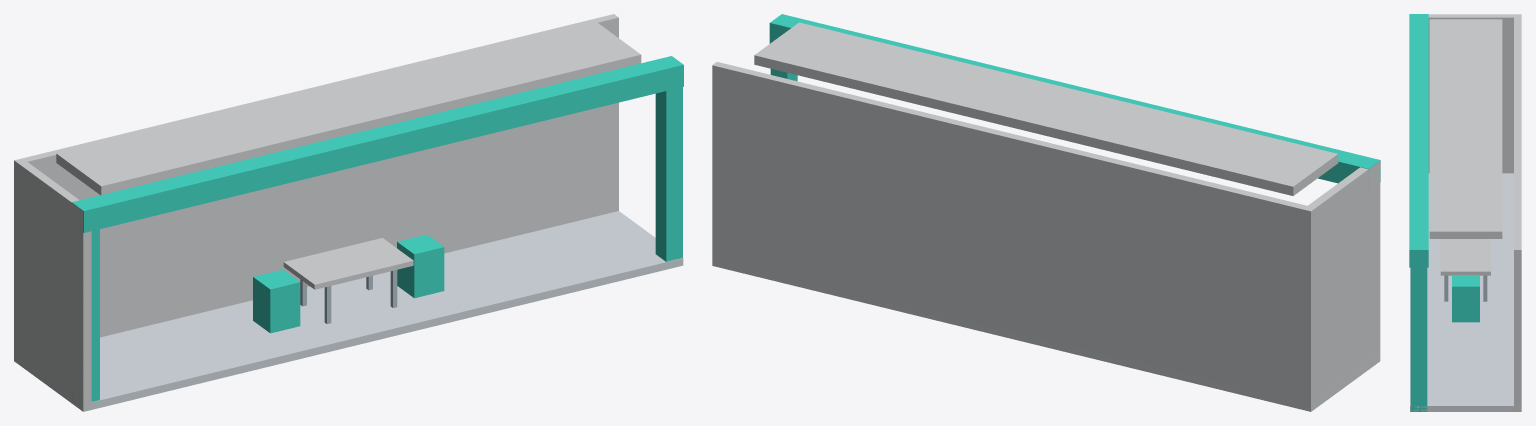
3 views of the same model, side by side, from view 1: azimuth 30°, elevation 25°; view 2: azimuth 150°, elevation 25°; view 3: azimuth 270°, elevation 25° (orthographic). The views are drawn at different scales.
Visible parts, largest first — view 1: Exhibition Booth Concept; view 2: Exhibition Booth Concept; view 3: Exhibition Booth Concept.
Boxes of the visible parts, <box> form: Exhibition Booth Concept: <box>14,14,683,411</box>; Exhibition Booth Concept: <box>712,14,1380,411</box>; Exhibition Booth Concept: <box>1409,14,1521,411</box>.
Size of the model in its own units: 10 by 3.34 by 2.01.
